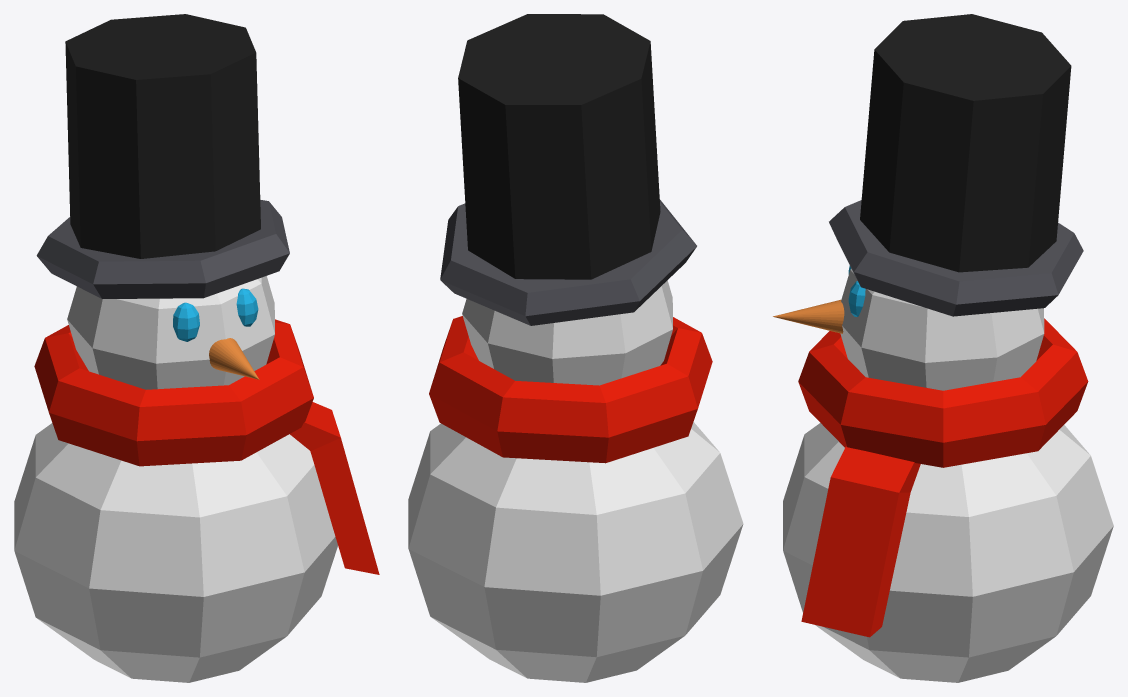
File: BonecoNeve.fbx
The picture shows the model from 3 angles, left to right: view 1: azimuth 30°, elevation 25°; view 2: azimuth 150°, elevation 25°; view 3: azimuth 270°, elevation 25°; orthographic projection.
Parts seen in each view (by area): view 1: Sphere, Cylinder.001, Torus, Sphere.001, Torus.001, Cube, Cone, Sphere.003, Sphere.002; view 2: Sphere, Cylinder.001, Torus, Sphere.001, Torus.001; view 3: Sphere, Cylinder.001, Torus, Sphere.001, Cube, Torus.001, Cone.
Part boxes in pixels (left/top/right/bottom): Sphere: left=14, top=423, right=337, bottom=682; Cylinder.001: left=65, top=14, right=260, bottom=258; Torus: left=34, top=319, right=313, bottom=466; Sphere.001: left=67, top=276, right=274, bottom=389; Torus.001: left=36, top=200, right=289, bottom=298; Cube: left=290, top=402, right=379, bottom=574; Cone: left=209, top=338, right=259, bottom=379; Sphere.003: left=173, top=302, right=199, bottom=341; Sphere.002: left=236, top=288, right=258, bottom=326; Sphere: left=408, top=422, right=743, bottom=682; Cylinder.001: left=458, top=14, right=660, bottom=279; Torus: left=429, top=316, right=712, bottom=463; Sphere.001: left=462, top=280, right=672, bottom=385; Torus.001: left=440, top=199, right=696, bottom=325; Sphere: left=783, top=423, right=1113, bottom=682; Cylinder.001: left=860, top=14, right=1071, bottom=272; Torus: left=798, top=318, right=1088, bottom=467; Sphere.001: left=840, top=268, right=1044, bottom=390; Cube: left=801, top=446, right=920, bottom=637; Torus.001: left=829, top=200, right=1083, bottom=316; Cone: left=773, top=299, right=844, bottom=333.
Size of the model in its own units: 207 by 400 by 200.
